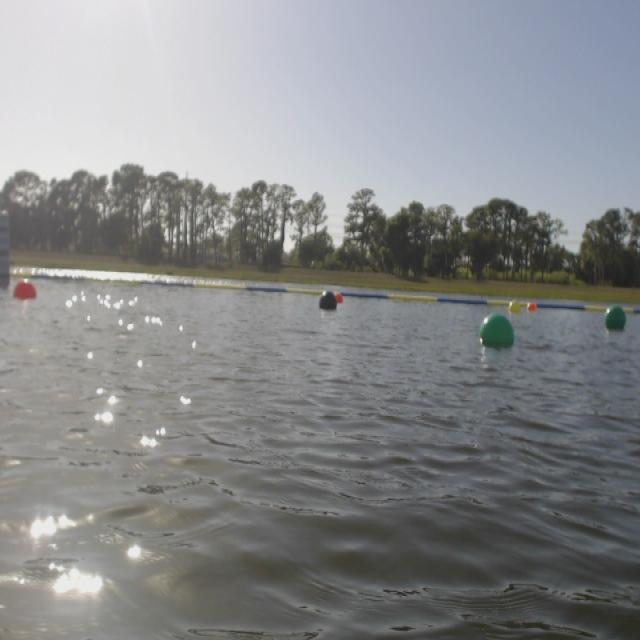Black_Buoy: (316, 290, 336, 313)
Green_Buoy: (479, 313, 518, 351), (604, 305, 628, 333)
Orange__Buoy: (15, 273, 38, 300), (335, 291, 346, 302), (530, 304, 538, 310)
White_Buoy: (0, 204, 14, 291)
